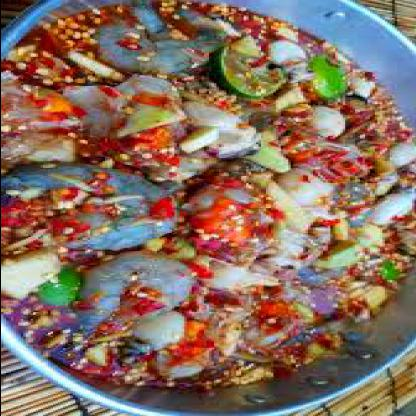Yum: (3, 0, 408, 408)
